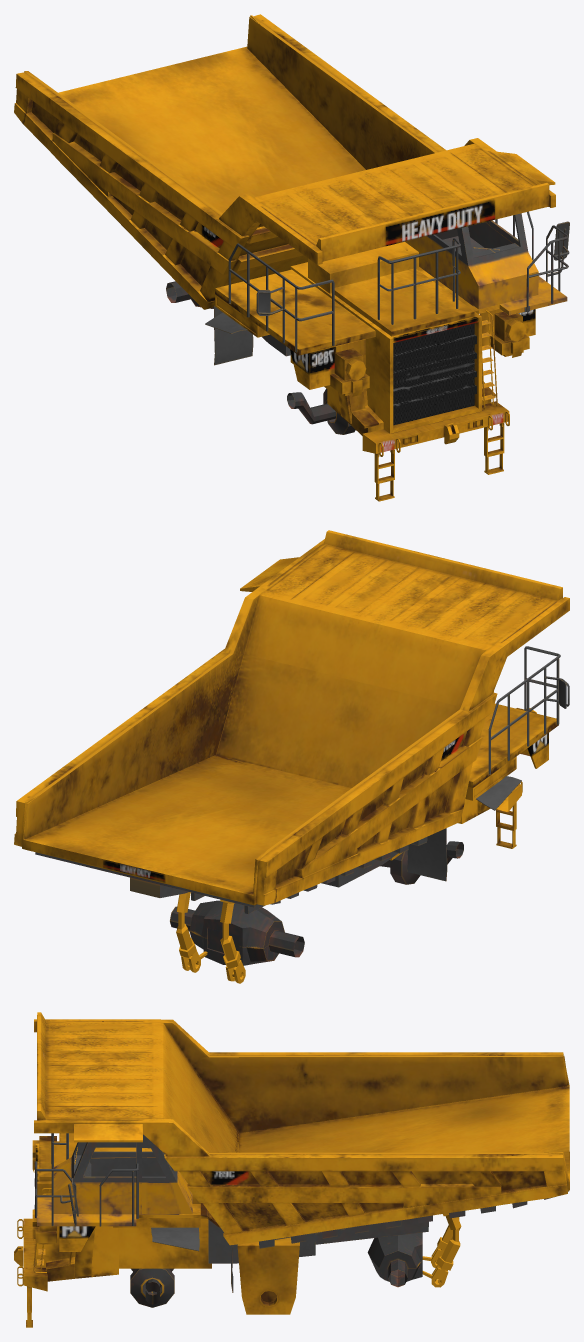
Rendered from Body Caterpillar.fbx.
The picture shows the model from 3 angles, top to bottom: view 1: azimuth 30°, elevation 25°; view 2: azimuth 150°, elevation 25°; view 3: azimuth 270°, elevation 25°; orthographic projection. The views are drawn at different scales.
Parts seen in each view (by area): view 1: Body Caterpillar; view 2: Body Caterpillar; view 3: Body Caterpillar.
Part boxes in pixels (x1,y1,x2,y2): Body Caterpillar: [14, 14, 569, 501]; Body Caterpillar: [14, 530, 569, 983]; Body Caterpillar: [14, 1012, 569, 1327].
Size of the model in its own units: 6.59 by 5.59 by 11.77.
